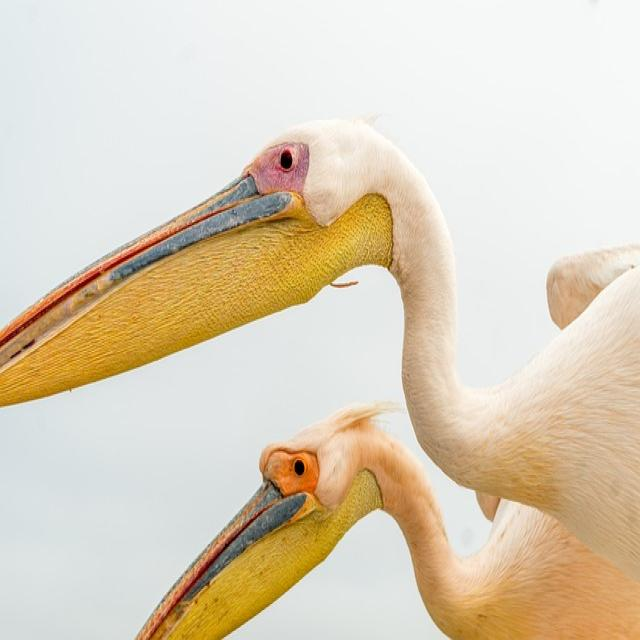Carnivorous: (0, 121, 640, 586), (135, 403, 640, 640)
